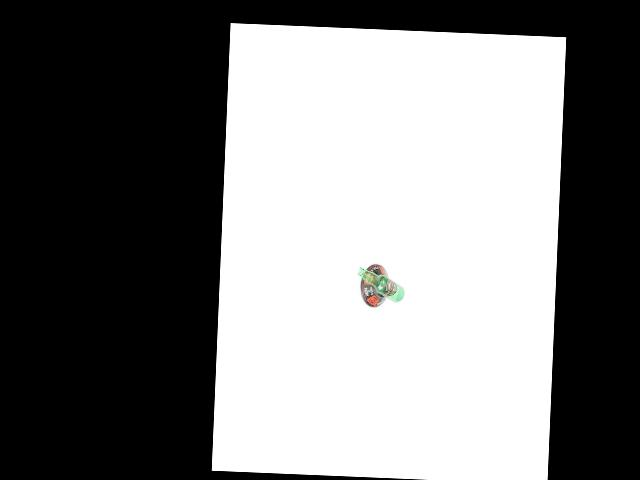beer: (356, 267, 405, 303)
